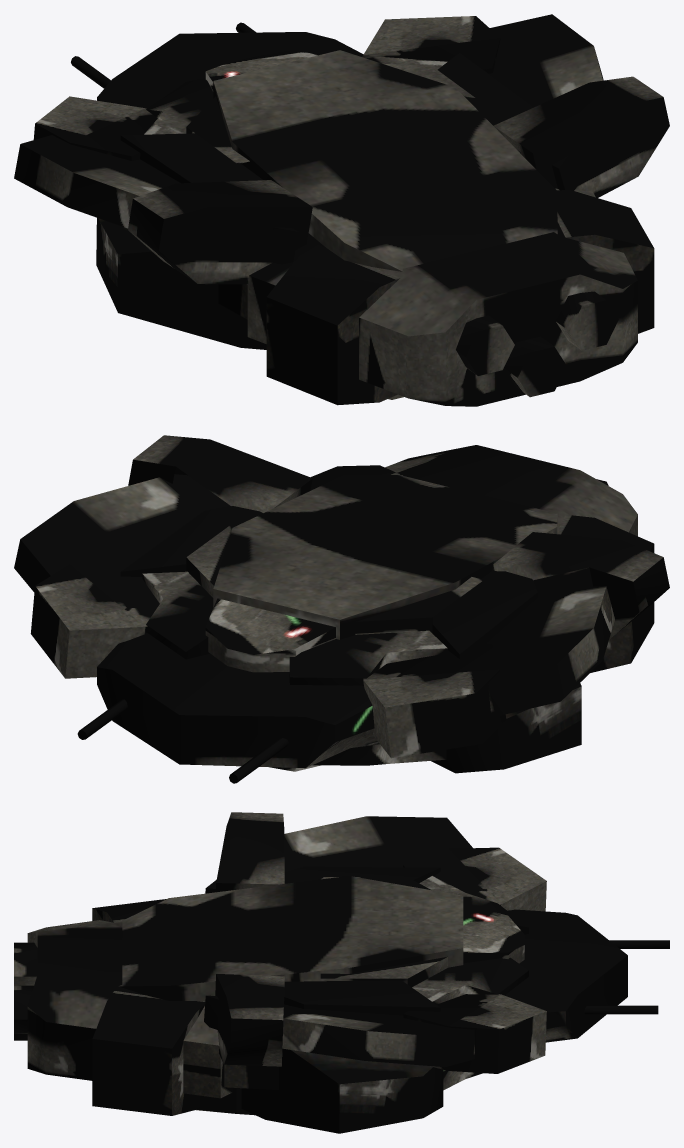
File: AncientFrigate.fbx
The picture shows the model from 3 angles, top to bottom: view 1: azimuth 30°, elevation 25°; view 2: azimuth 150°, elevation 25°; view 3: azimuth 270°, elevation 25°; orthographic projection. The views are drawn at different scales.
Visible parts, largest first — view 1: AncientFrigate; view 2: AncientFrigate; view 3: AncientFrigate.
Boxes of the visible parts, <box> form: AncientFrigate: <box>14,14,669,406</box>; AncientFrigate: <box>14,435,669,783</box>; AncientFrigate: <box>14,812,669,1133</box>.
Size of the model in its own units: 214 by 74.73 by 262.
1 material, 1 textured.
